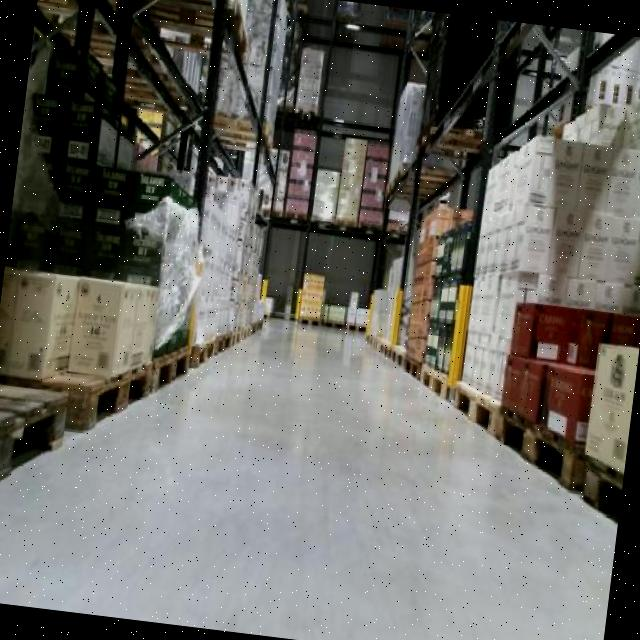pallet: (65, 344, 159, 445), (490, 398, 585, 492), (442, 378, 504, 437), (147, 337, 196, 398), (412, 361, 455, 402), (189, 331, 221, 374), (316, 316, 346, 340), (292, 314, 322, 332)
